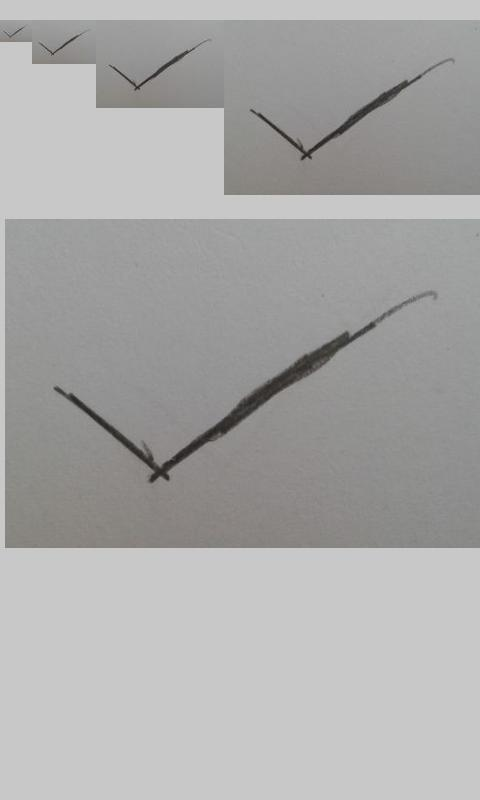check_box: (54, 303, 398, 483), (250, 60, 447, 162), (108, 39, 208, 89), (38, 31, 87, 56), (3, 25, 26, 38)
